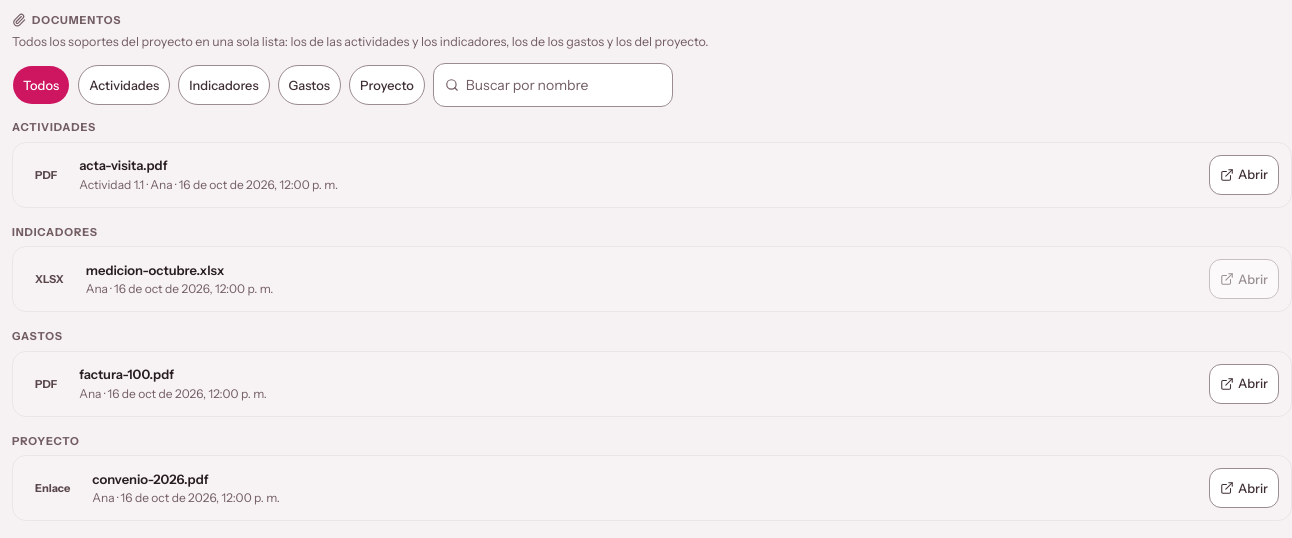
it: FichaDocumentos › says so when the search or the filter leaves nothing
Type "no-existe" into the search field labelled "Buscar por nombre" at [553, 85], box [433, 63, 673, 107]
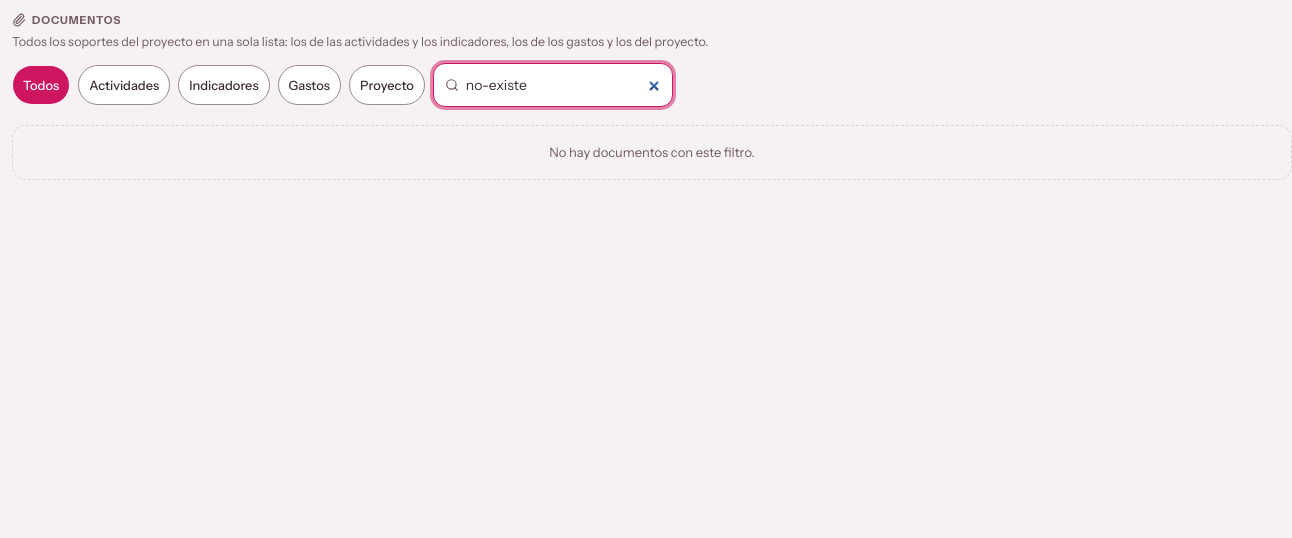
expect the text "No hay documentos con este filtro." is shown: met, box [549, 142, 755, 163]
expect the list item with test id "documento-fila" is gone: met
